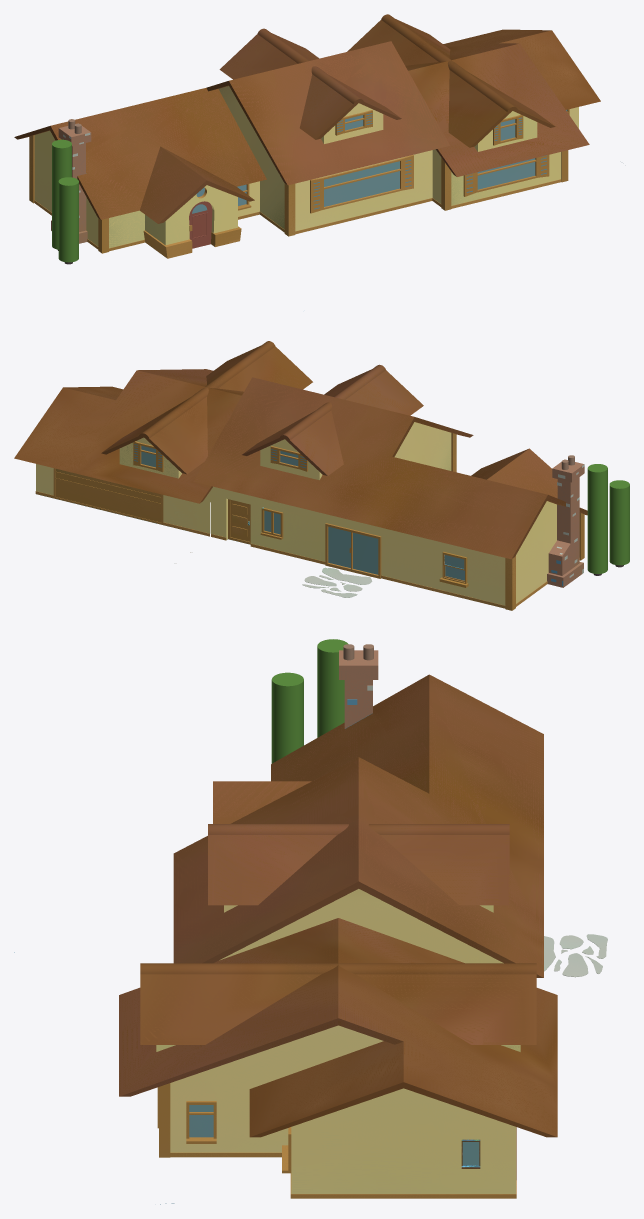
Rendered from casaFinal2PhienasFerb.obj.
3 views of the same model, one above another, from view 1: azimuth 30°, elevation 25°; view 2: azimuth 150°, elevation 25°; view 3: azimuth 270°, elevation 25° (orthographic). The views are drawn at different scales.
Visible parts, largest first — view 1: ID170, ID943, ID1047, ID613, ID153, ID603, ID2165, ID2295, ID1961, ID367, ID1488, ID683 (+18 smaller); view 2: ID170, ID943, ID613, ID2295, ID1047, ID2165, ID387, ID367, ID603, ID1505, ID1710, ID1961 (+16 smaller); view 3: ID170, ID943, ID613, ID2295, ID1047, ID2165, ID603, ID1488, ID1505, ID1375, ID387, ID431 (+1 smaller).
Boxes of the visible parts, box(x1,y1,x2,y2) form: ID170: box(14, 41, 449, 223); ID943: box(405, 29, 600, 176); ID1047: box(447, 60, 555, 147); ID613: box(295, 107, 578, 231); ID153: box(109, 181, 259, 248); ID603: box(299, 66, 401, 139); ID2165: box(219, 28, 319, 79); ID2295: box(347, 14, 450, 65); ID1961: box(219, 86, 284, 229); ID367: box(34, 130, 98, 246); ID1488: box(58, 177, 78, 262); ID683: box(310, 155, 413, 213); ID170: box(193, 377, 587, 559); ID943: box(14, 369, 243, 503); ID613: box(36, 464, 505, 605); ID2295: box(101, 387, 208, 474); ID1047: box(205, 341, 312, 391); ID2165: box(242, 402, 343, 475); ID387: box(547, 477, 583, 587); ID367: box(516, 501, 556, 603); ID603: box(324, 364, 423, 415); ID1505: box(587, 464, 607, 573); ID1710: box(55, 479, 161, 522); ID1961: box(394, 422, 451, 470); ID170: box(173, 674, 543, 977); ID943: box(119, 918, 557, 1137); ID613: box(170, 889, 515, 1193); ID2295: box(338, 963, 536, 1044); ID1047: box(140, 963, 338, 1044); ID2165: box(368, 824, 509, 905); ID603: box(208, 824, 348, 905); ID1488: box(271, 672, 303, 763); ID1505: box(317, 639, 348, 737); ID1375: box(170, 1152, 516, 1198); ID387: box(344, 680, 372, 728); ID431: box(339, 650, 378, 679).
Size of the model in its own units: 33.44 by 8.54 by 21.48.
